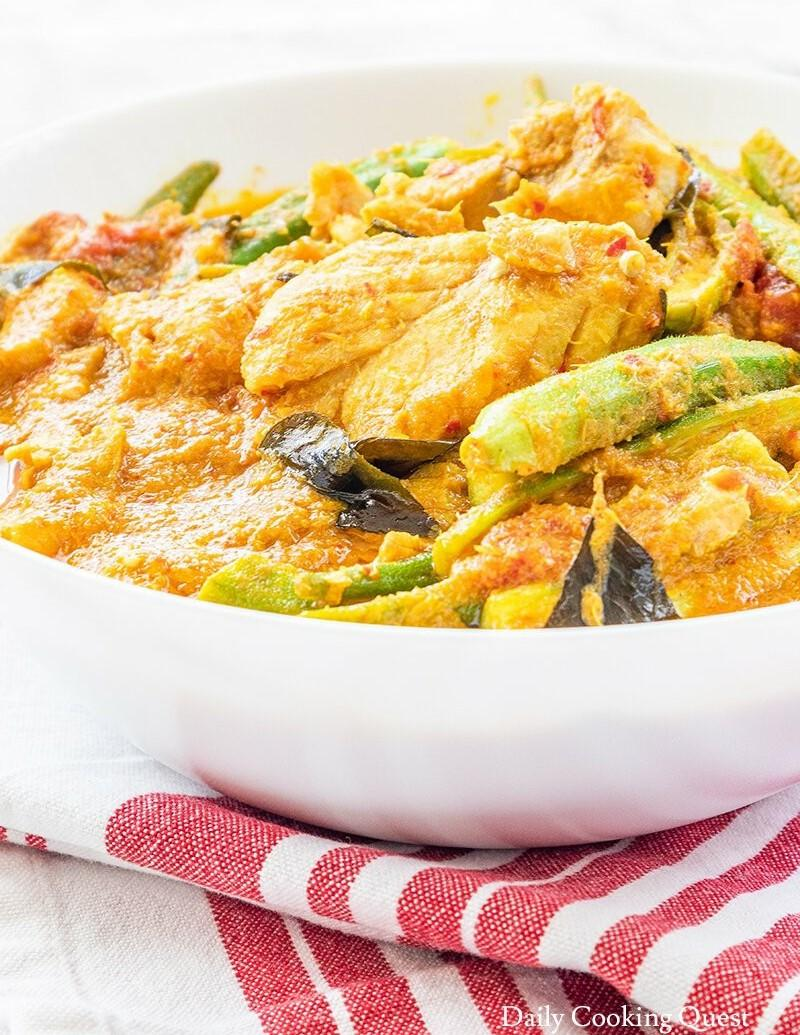FishCurry: (0, 74, 800, 622)
